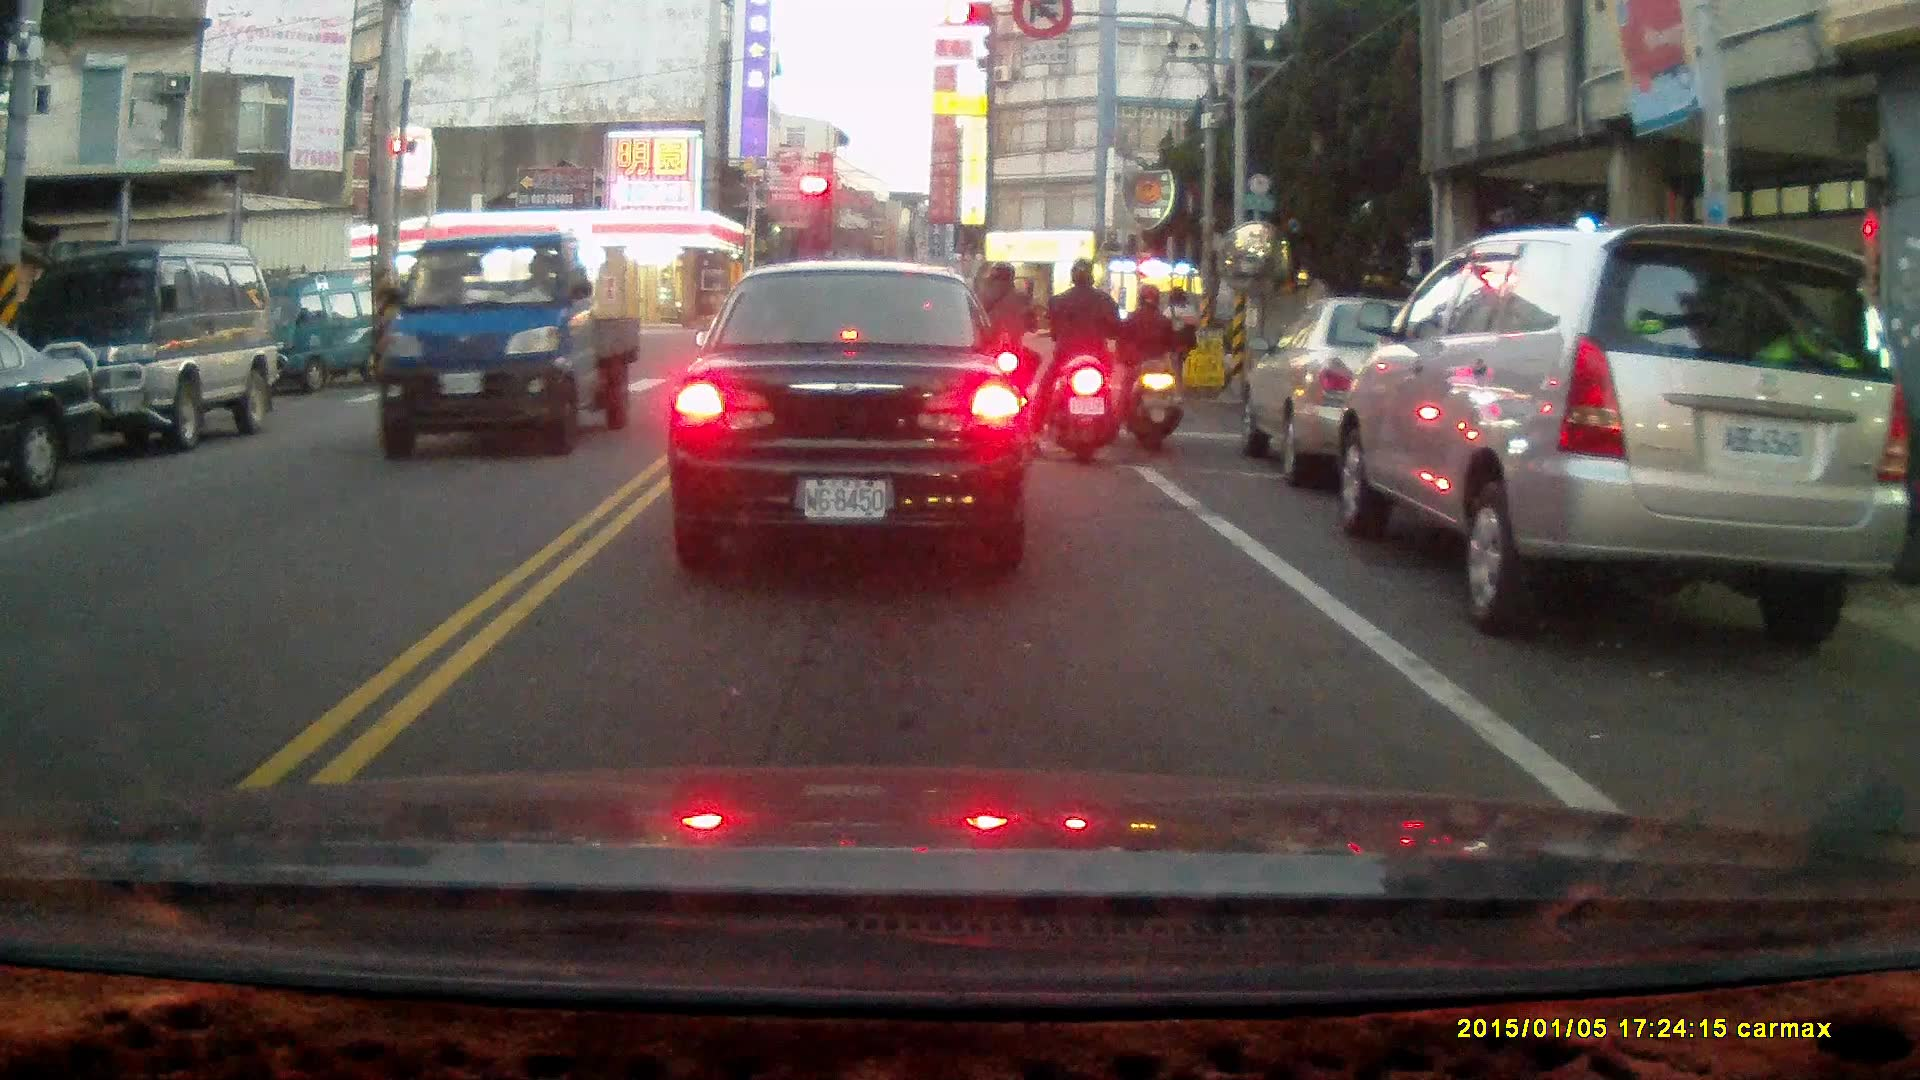pedestrian: (1155, 283, 1199, 404)
rider: (1032, 258, 1130, 463), (964, 260, 1039, 436), (1115, 280, 1182, 450)
vehicle: (1334, 224, 1909, 642), (665, 256, 1033, 571), (6, 236, 280, 458), (378, 234, 642, 457), (1245, 296, 1516, 493), (242, 270, 408, 401), (1, 323, 107, 500)
